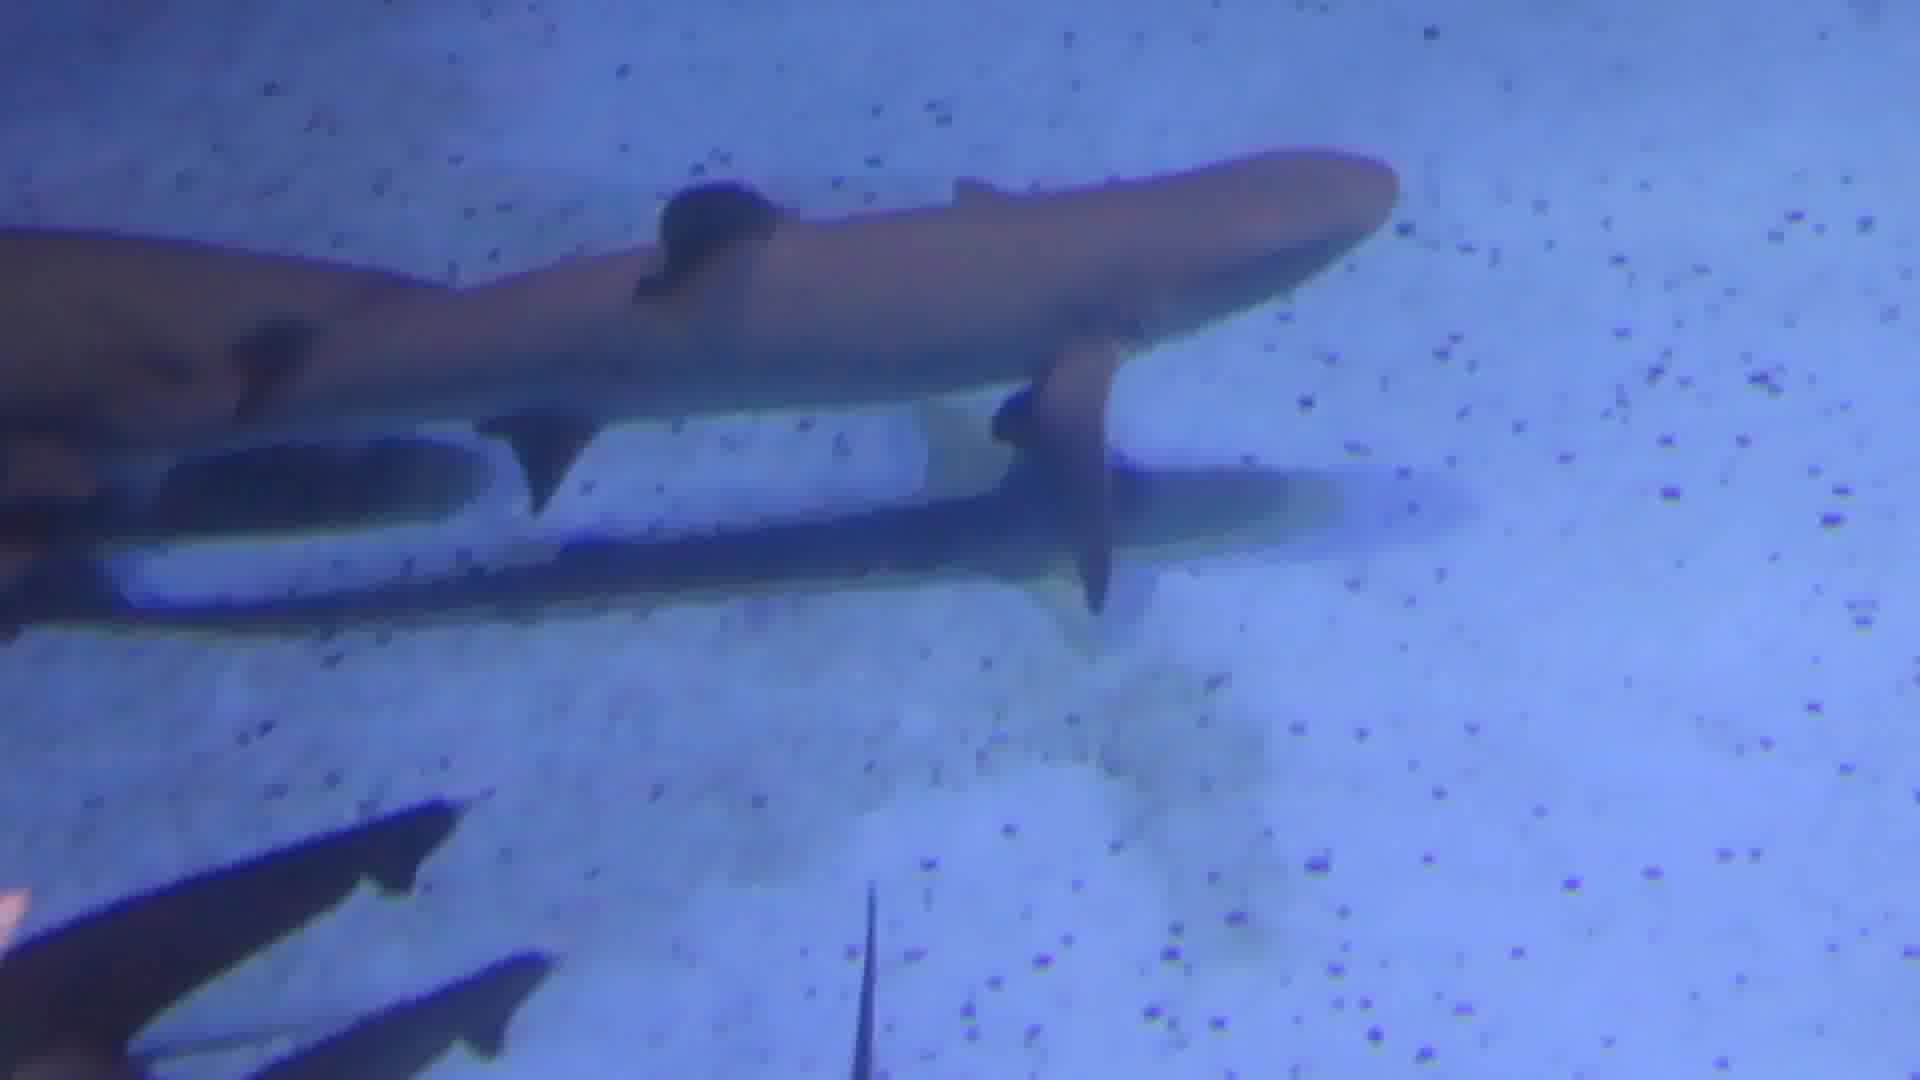Triaenodon obesus: (45, 107, 1420, 460)
